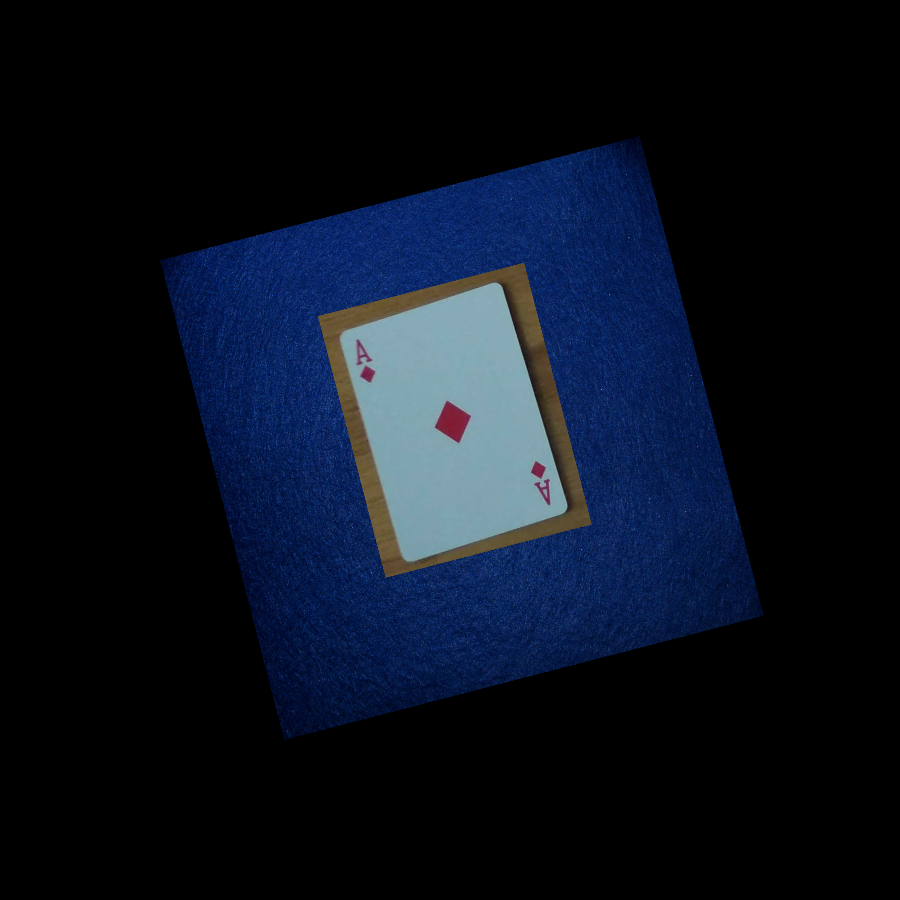1F: (515, 446, 566, 520), (341, 323, 386, 397)
